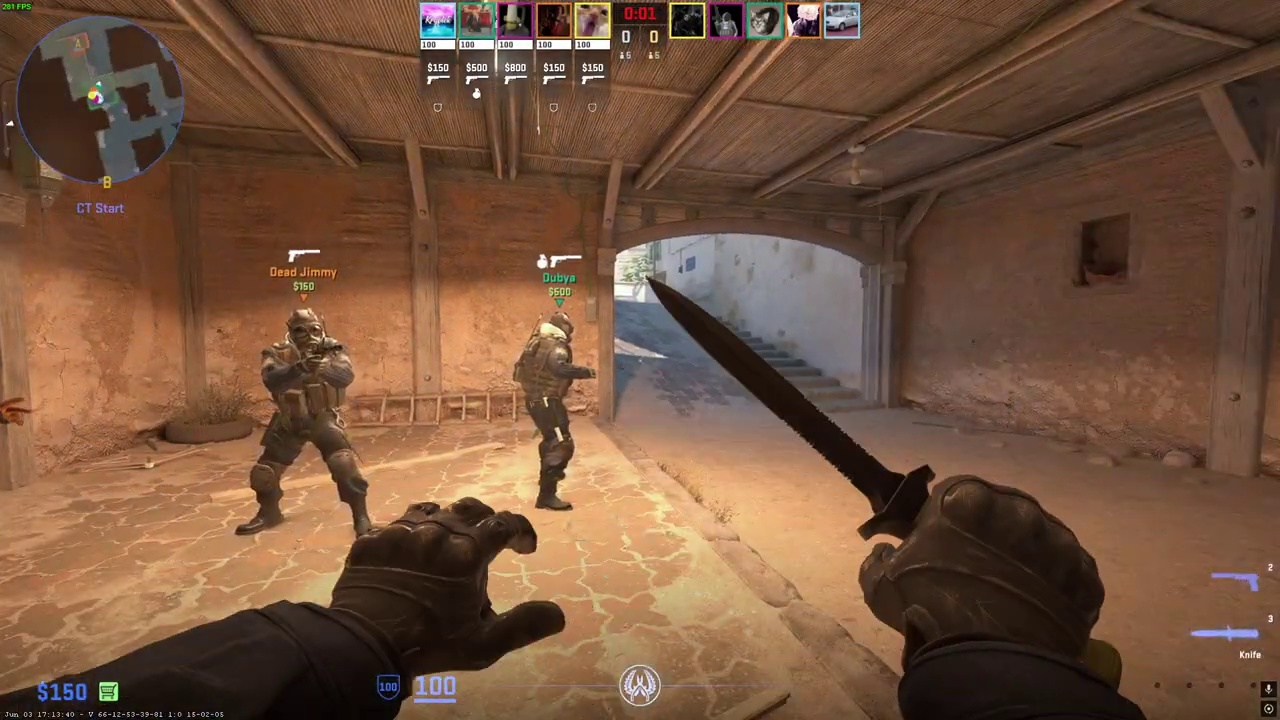CT: (237, 307, 376, 542), (517, 311, 589, 510)
